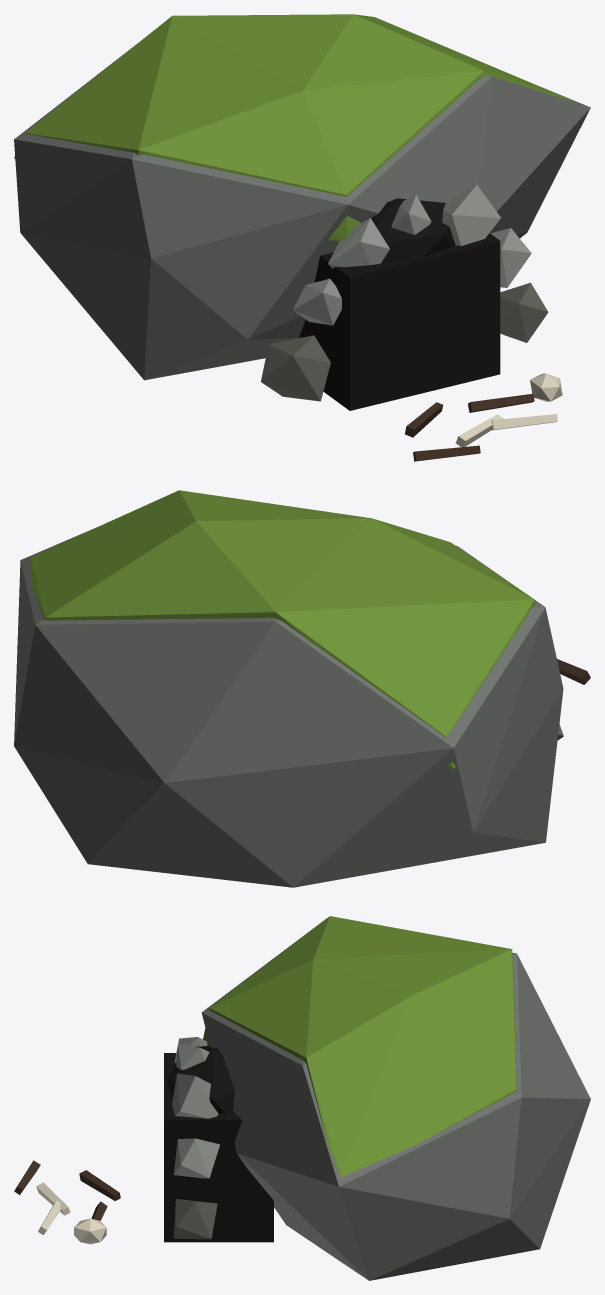
The model's file is forest_dwarf_hole.glb.
3 renders of one model, top to bottom at view 1: azimuth 30°, elevation 25°; view 2: azimuth 150°, elevation 25°; view 3: azimuth 270°, elevation 25°, orthographic. The views are drawn at different scales.
Parts seen in each view (by area): view 1: forest_dwarf_hole; view 2: forest_dwarf_hole; view 3: forest_dwarf_hole.
Part boxes in pixels (left/top/right/bottom): forest_dwarf_hole: left=14, top=14, right=590, bottom=461; forest_dwarf_hole: left=14, top=490, right=590, bottom=887; forest_dwarf_hole: left=14, top=916, right=590, bottom=1280.
Bounding box in the file's own units: 4.22 × 2.18 × 4.71.
